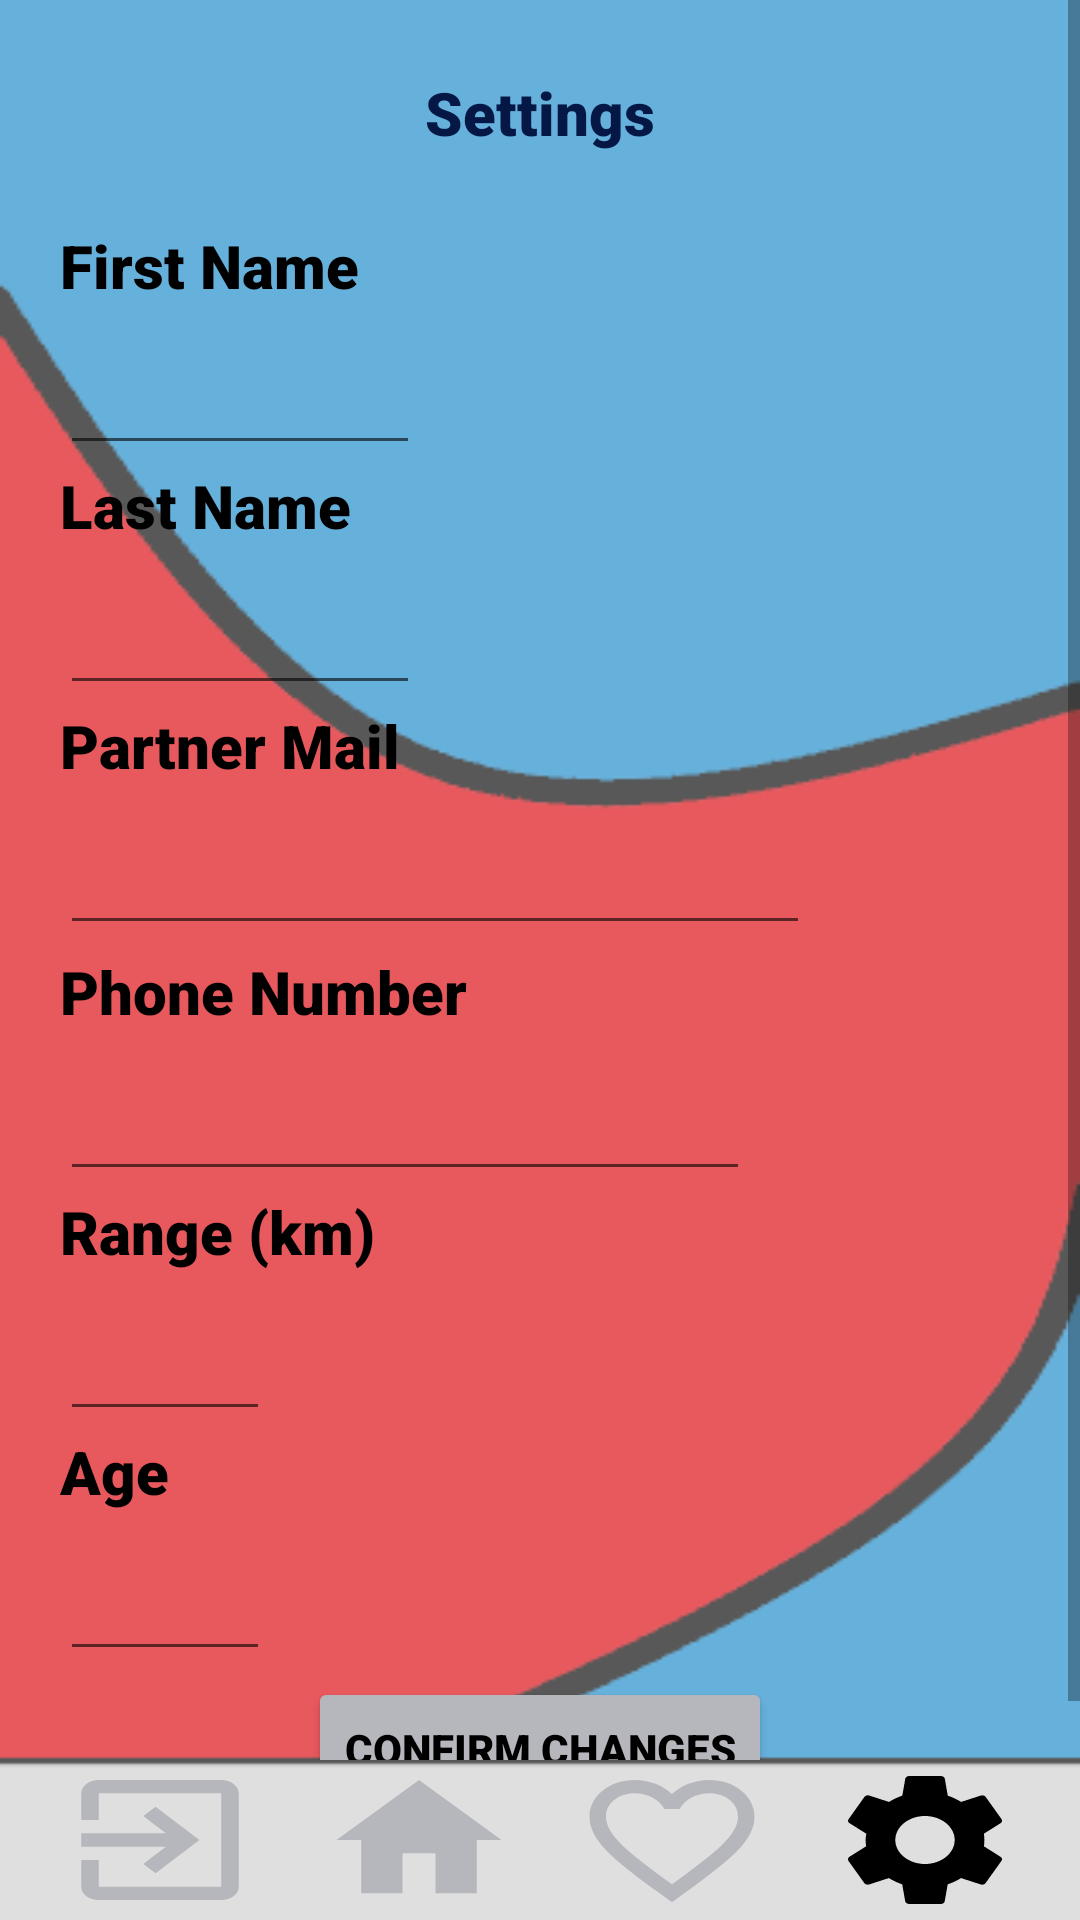

Named icons in this screenshot (1080w x 1920h) and their centers, (x=x, y=y):
exit to app: (x=160, y=1840)
favorite border: (x=672, y=1840)
home: (x=419, y=1840)
settings: (x=925, y=1840)
